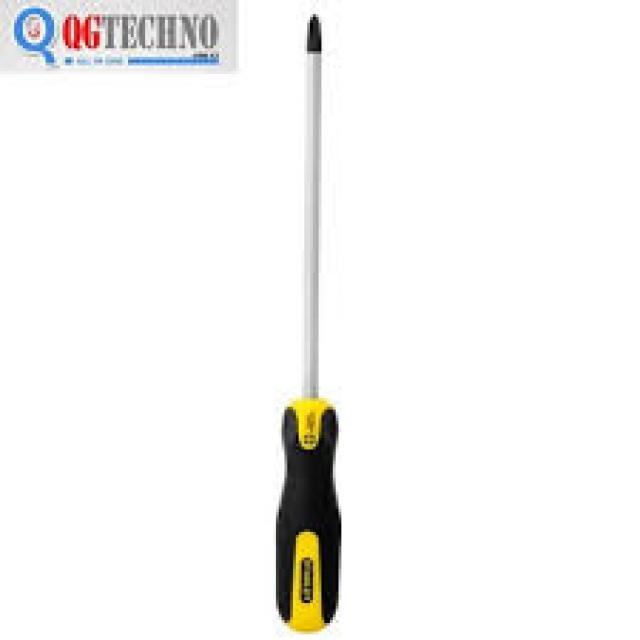screwdriver: (268, 1, 344, 636)
